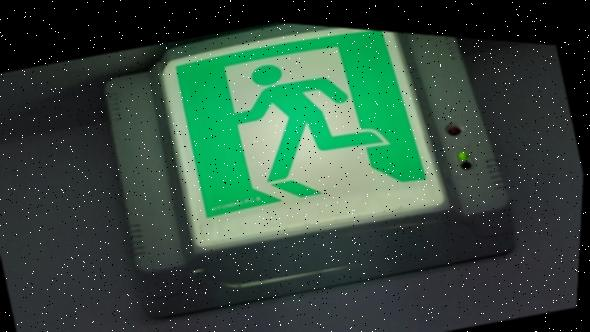emergency_exit: (3, 22, 583, 329), (98, 23, 515, 316), (157, 26, 451, 253)
